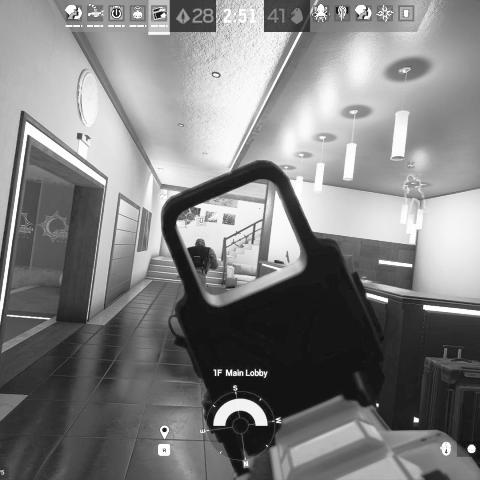Character: (187, 238, 219, 291)
Friend_label: (400, 160, 424, 176), (194, 214, 207, 238)
Head: (195, 238, 206, 248)
